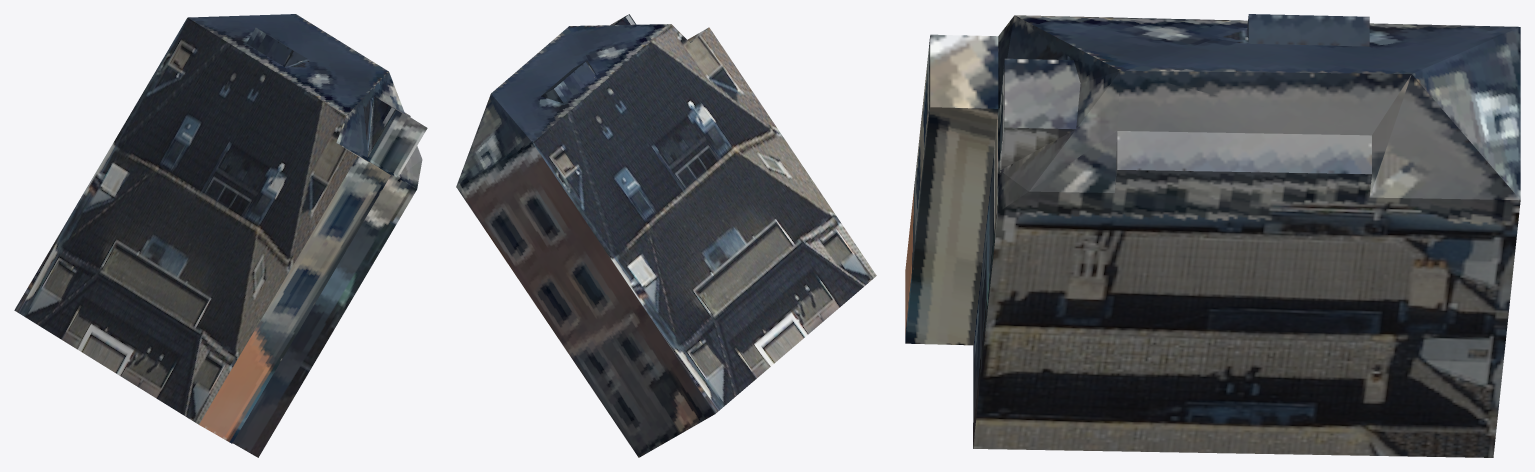
3 renders of one model, left to right at view 1: azimuth 30°, elevation 25°; view 2: azimuth 150°, elevation 25°; view 3: azimuth 270°, elevation 25°, orthographic. The views are drawn at different scales.
Visible parts, largest first — view 1: BAG_0599100000688751 (×6); view 2: BAG_0599100000688751 (×6); view 3: BAG_0599100000688751 (×5).
Part boxes in pixels (<box>): BAG_0599100000688751 (×6): <box>14,14,427,457</box>; BAG_0599100000688751 (×6): <box>456,14,876,457</box>; BAG_0599100000688751 (×5): <box>905,14,1520,457</box>.
Bounding box in the file's own units: 12.35 × 13.61 × 13.87.
Materials: 1 (1 with a texture image).
